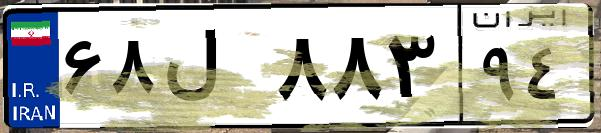3: (385, 28, 445, 110)
4: (525, 38, 570, 115)
6: (57, 26, 110, 100)
8: (270, 28, 330, 110), (330, 28, 385, 110), (110, 28, 158, 98)
9: (475, 38, 525, 113)
ل: (158, 20, 270, 120)
